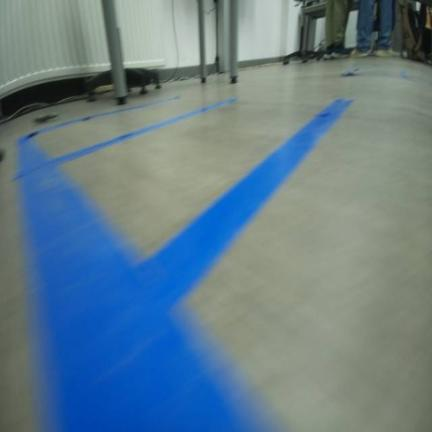place: (31, 93, 431, 431), (15, 96, 355, 431), (18, 93, 241, 178)
